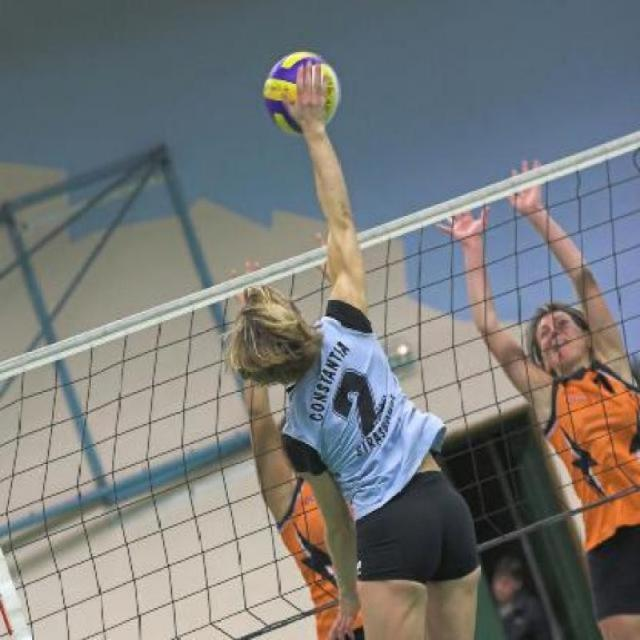volleyball: (262, 48, 342, 140)
